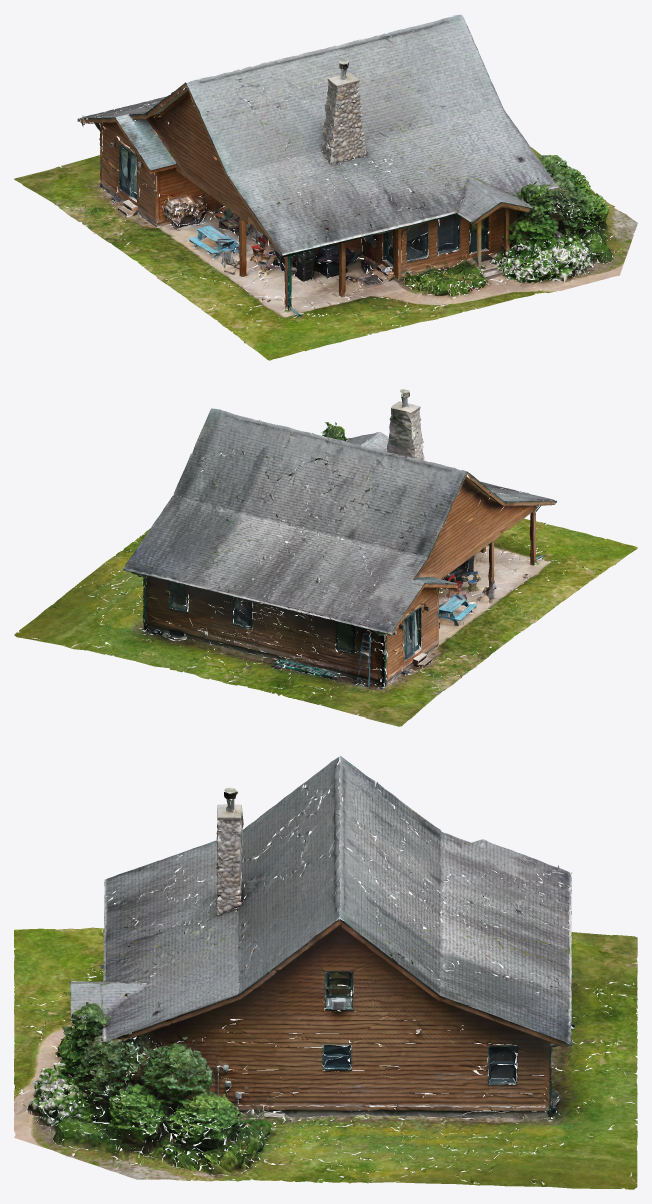
Rendered from Cabin.glb.
3 renders of one model, top to bottom at view 1: azimuth 30°, elevation 25°; view 2: azimuth 150°, elevation 25°; view 3: azimuth 270°, elevation 25°, orthographic. The views are drawn at different scales.
Visible parts, largest first — view 1: Mesh_0.076; view 2: Mesh_0.076; view 3: Mesh_0.076.
Boxes of the visible parts, x1=… form: Mesh_0.076: x1=14, y1=14, x2=637, y2=360; Mesh_0.076: x1=14, y1=389, x2=637, y2=726; Mesh_0.076: x1=14, y1=756, x2=637, y2=1189.
Bounding box in the file's own units: 1.54 × 0.7146 × 1.63.
1 material, 1 textured.
